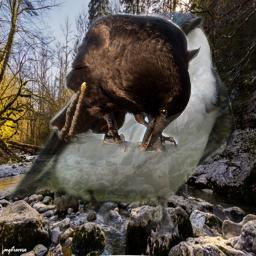Crow: (48, 12, 205, 152)
Swallow: (6, 10, 238, 242)
